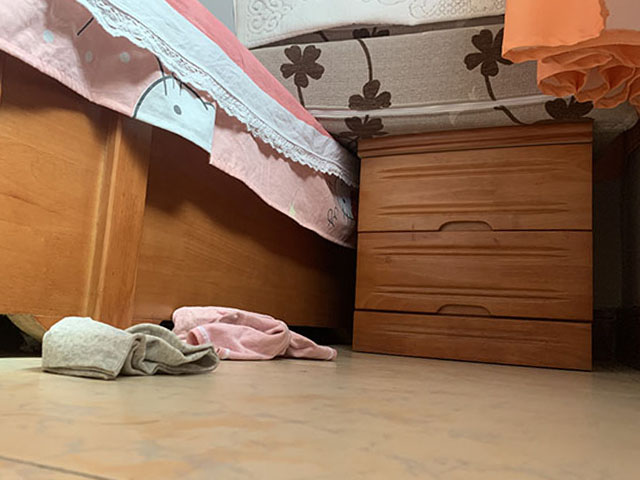bed: (1, 5, 352, 346)
cabinet: (351, 116, 596, 373)
socks: (40, 310, 218, 382), (178, 304, 334, 363)
